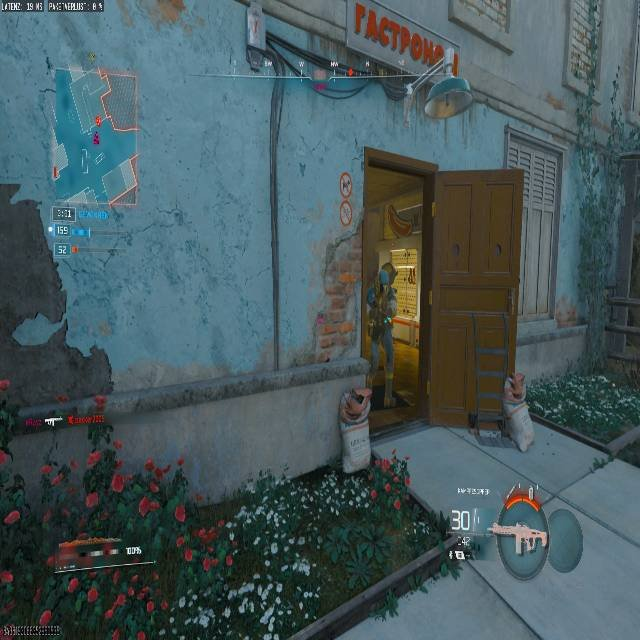player: (499, 372, 535, 452)
